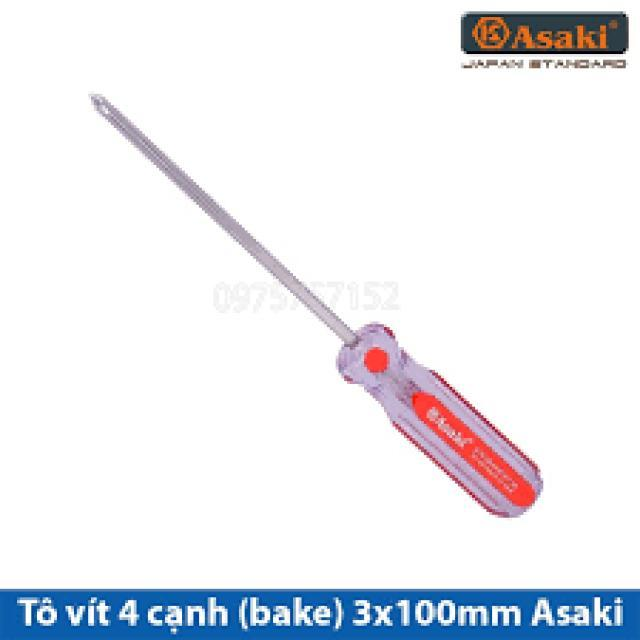screwdriver: (80, 90, 550, 524)
